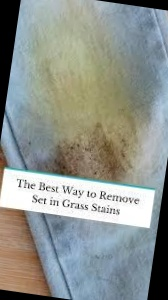earth: (17, 26, 156, 183)
